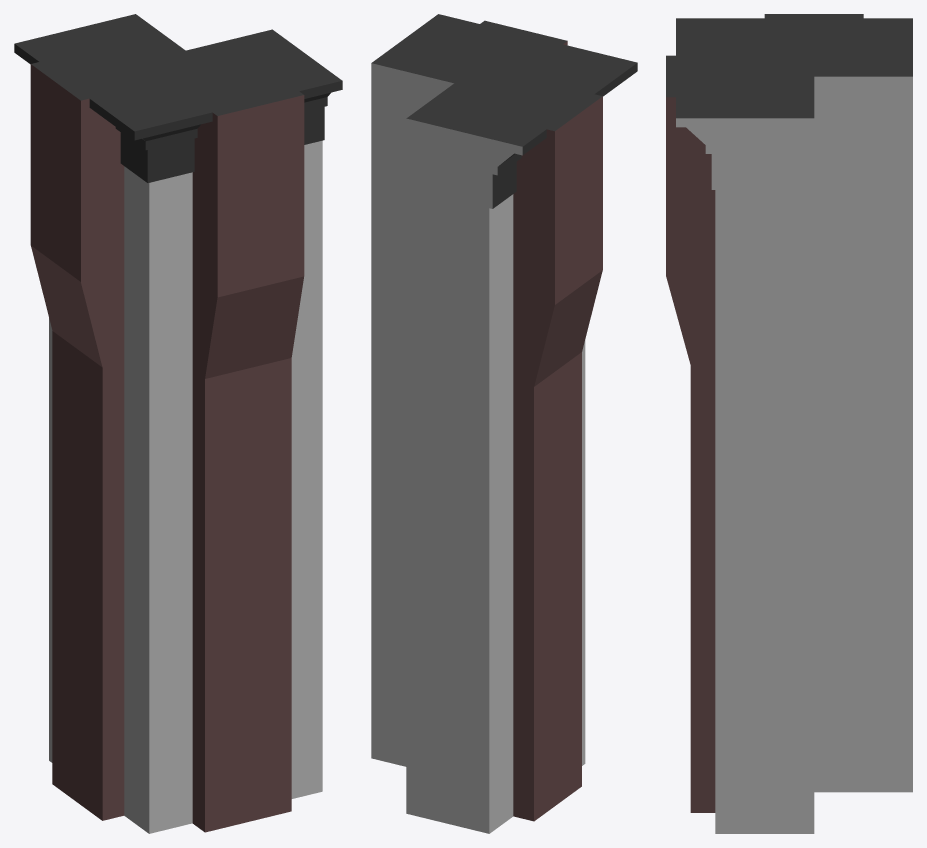
File: FloorPillar2.fbx
The picture shows the model from 3 angles, left to right: view 1: azimuth 30°, elevation 25°; view 2: azimuth 150°, elevation 25°; view 3: azimuth 270°, elevation 25°; orthographic projection. The views are drawn at different scales.
Visible parts, largest first — view 1: Tile17; view 2: Tile17; view 3: Tile17.
Part boxes in pixels (x1,y1,x2,y2): Tile17: (14,14,342,833); Tile17: (371,14,637,833); Tile17: (666,14,912,833).
Size of the model in its own units: 1.25 by 4 by 1.25.
